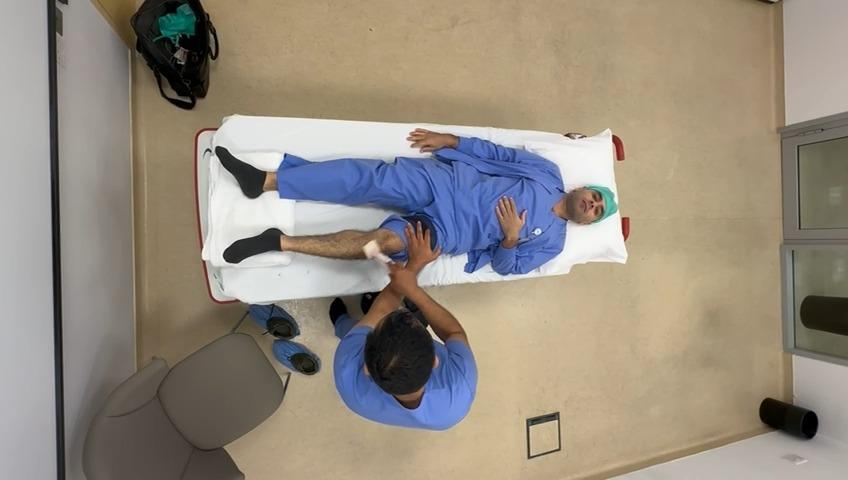bed: (197, 119, 631, 306)
patient: (215, 128, 618, 275)
prepstick: (363, 240, 393, 264)
tourniquet: (403, 214, 437, 249)
